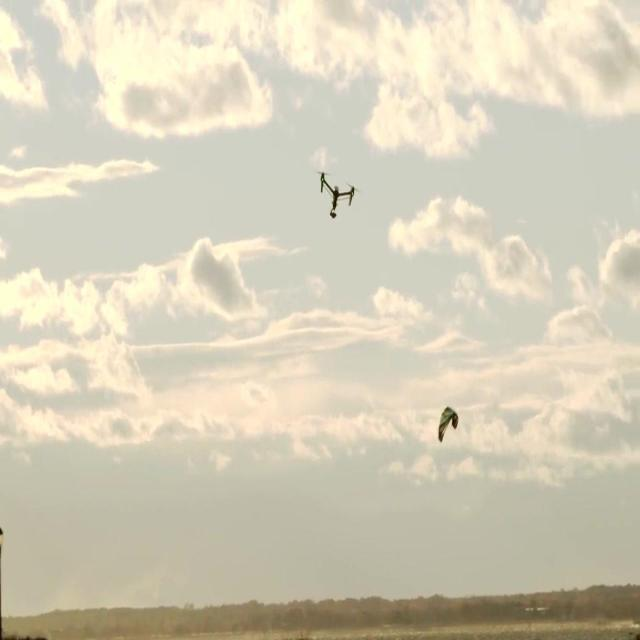drone: (316, 168, 360, 221)
